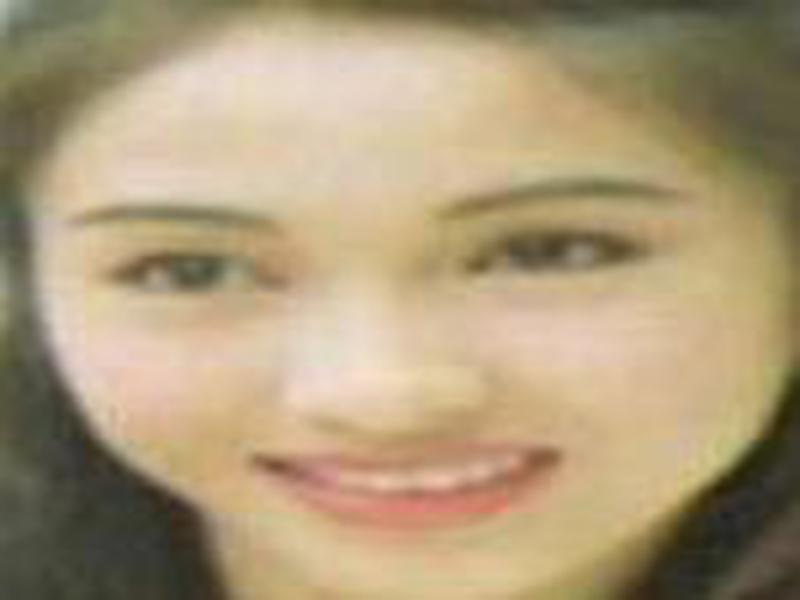without_mask: (29, 106, 785, 595)
